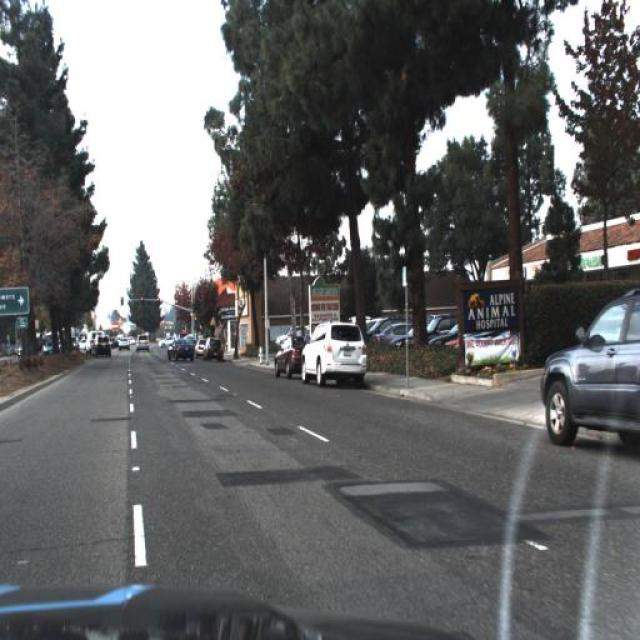car: (540, 287, 640, 453), (296, 316, 372, 392), (272, 331, 307, 383), (372, 316, 416, 349), (422, 310, 461, 341), (162, 334, 198, 364), (90, 332, 114, 362), (203, 333, 225, 362), (132, 328, 154, 356), (194, 330, 208, 365), (118, 338, 134, 352)
